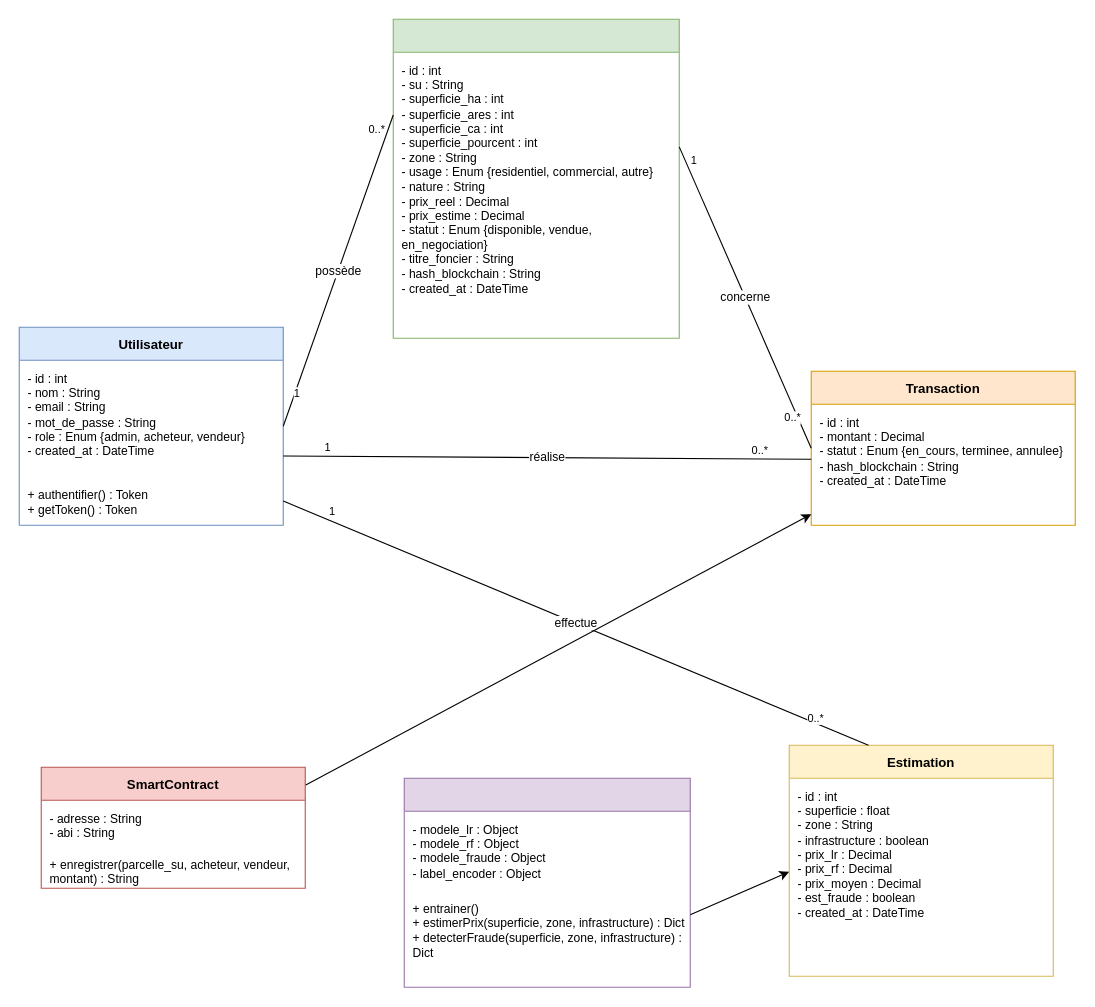
The diagram is 1095 pixels wide and 1007 high, and some of its shapes have lost their labels. Here are the shapes that lost their labels. From the top down, the box of each, then its label:
(392, 18, 679, 338): Parcelle
(403, 777, 690, 987): ModuleIA
